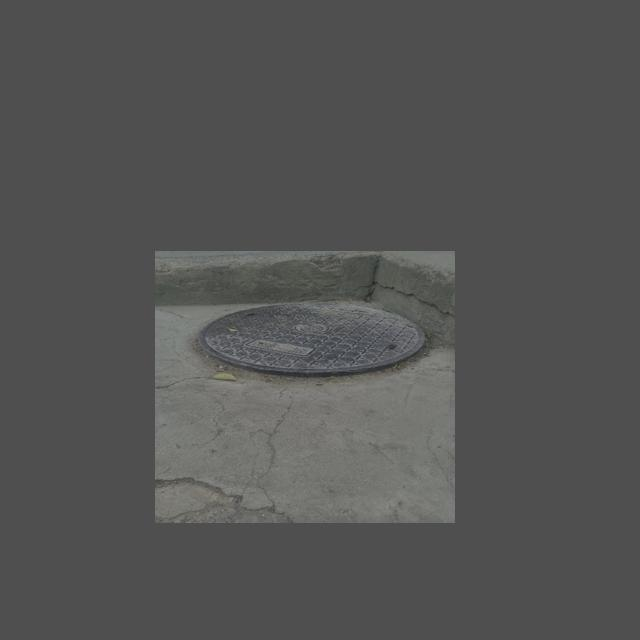good: (198, 303, 426, 377)
